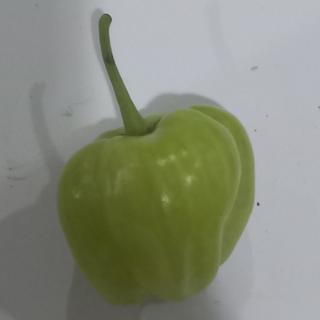Grade-B: (55, 93, 259, 305)
